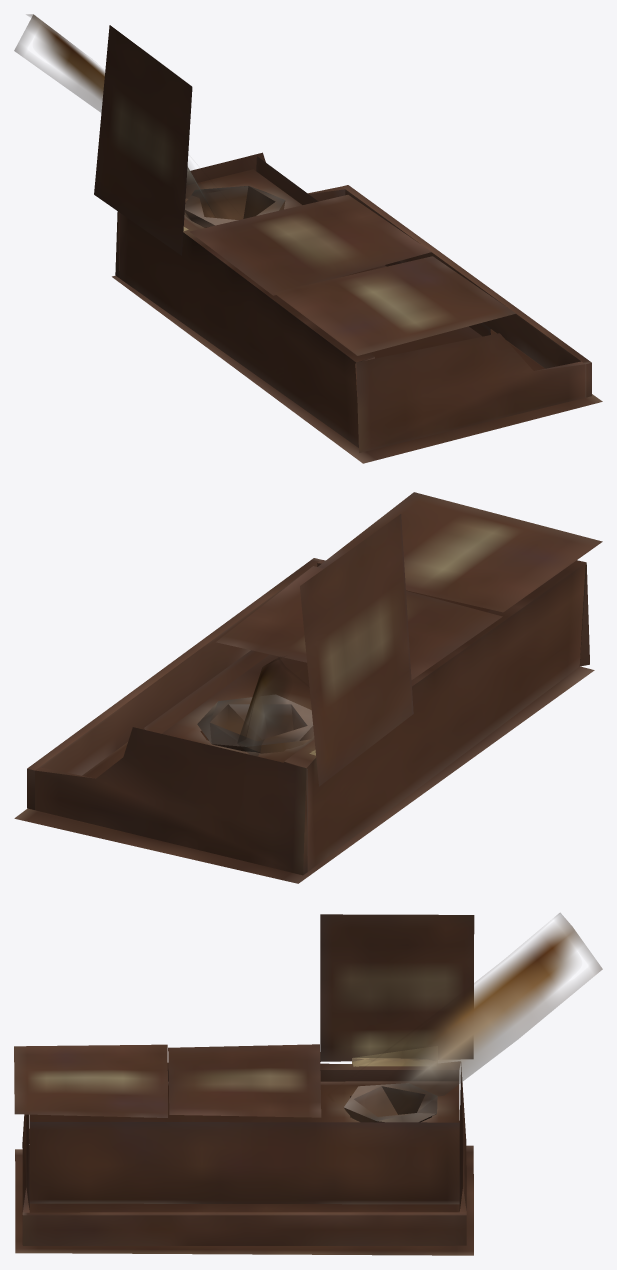
Rendered from inkstand-quill.lod1.glb.
3 renders of one model, top to bottom at view 1: azimuth 30°, elevation 25°; view 2: azimuth 150°, elevation 25°; view 3: azimuth 270°, elevation 25°, orthographic. The views are drawn at different scales.
Parts seen in each view (by area): view 1: inkstand-quill; view 2: inkstand-quill; view 3: inkstand-quill.
Boxes of the visible parts, left/top/right/bottom form: inkstand-quill: left=14, top=14, right=602, bottom=463; inkstand-quill: left=14, top=492, right=602, bottom=883; inkstand-quill: left=14, top=913, right=602, bottom=1255.
Size of the model in its own units: 0.1485 by 0.1299 by 0.2972.
Materials: 1 (1 with a texture image).
